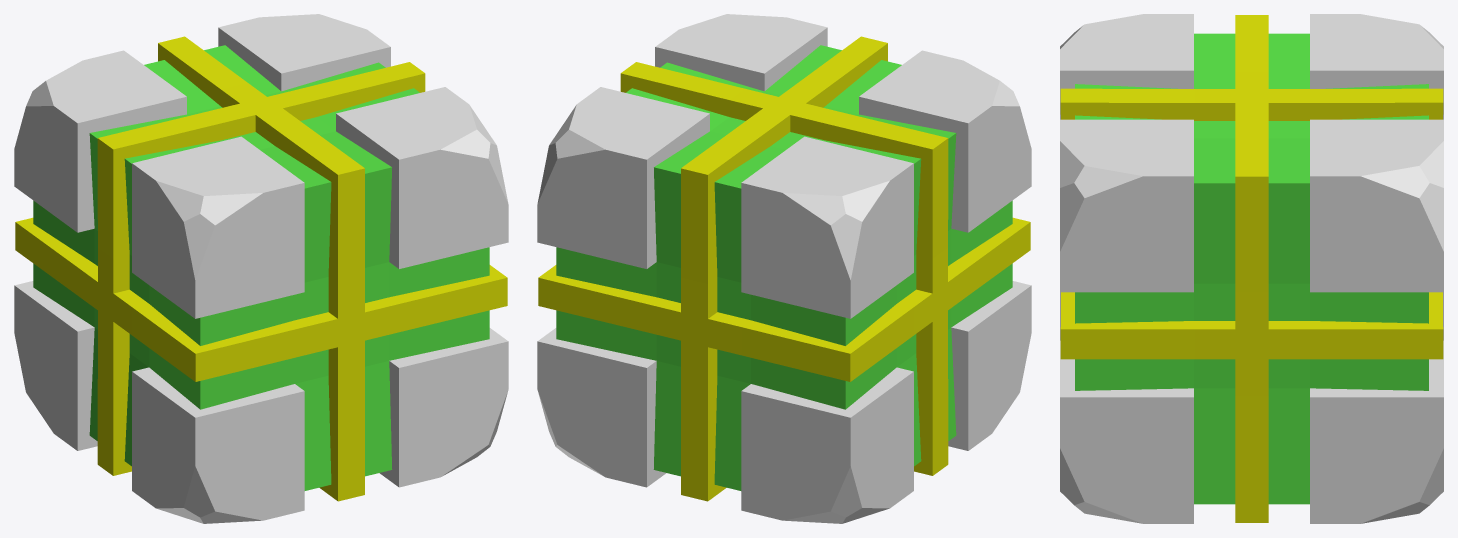
File: Vida.fbx
The picture shows the model from 3 angles, left to right: view 1: azimuth 30°, elevation 25°; view 2: azimuth 150°, elevation 25°; view 3: azimuth 270°, elevation 25°; orthographic projection. The views are drawn at different scales.
Visible parts, largest first — view 1: Cube; view 2: Cube; view 3: Cube.
Part boxes in pixels (x1,y1,x2,y2): Cube: (14, 14, 508, 523); Cube: (537, 14, 1031, 523); Cube: (1060, 14, 1443, 523).
Size of the model in its own units: 200 by 200 by 200.
